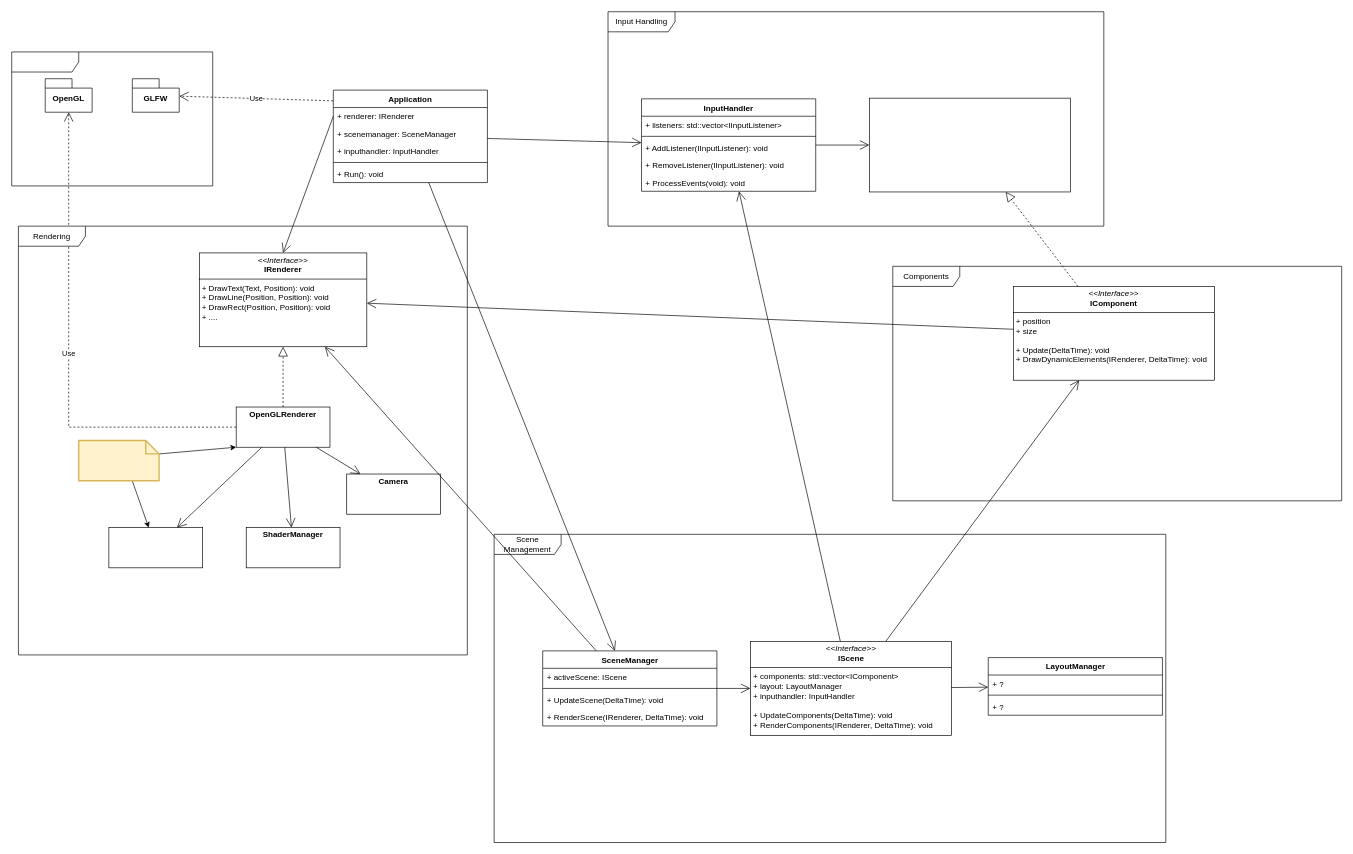
The diagram is 1353 pixels wide and 854 high, and some of its shapes have lost their labels. The centre of each missing label's shape, as x and y in pixels:
"<<Interface>> IInputListener + OnEvent(EventInfo): void" belongs at point (969, 144).
"Dependencies" belongs at point (112, 118).
"GlyphManager" belongs at point (155, 547).
"Potentially A 'TextRenderer' class inbetween" belongs at point (118, 460).
